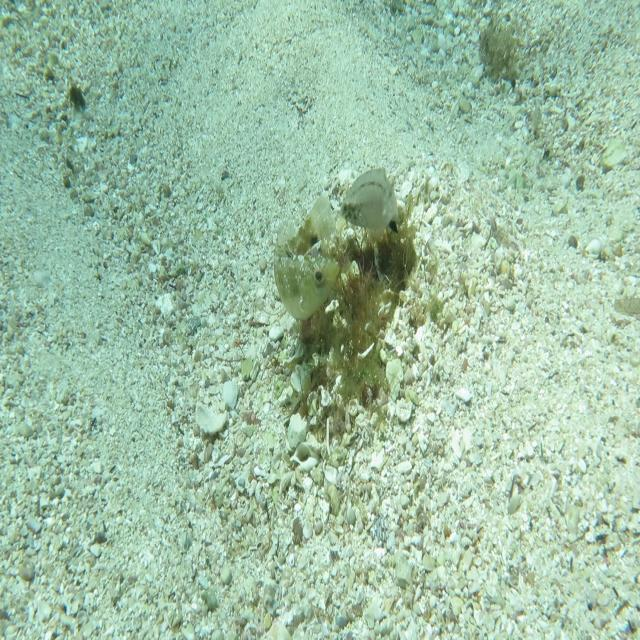DAN_CIRC: (272, 190, 340, 336)
core_nest: (364, 249, 409, 295)
female: (338, 167, 399, 240)
nest: (283, 176, 434, 450)
